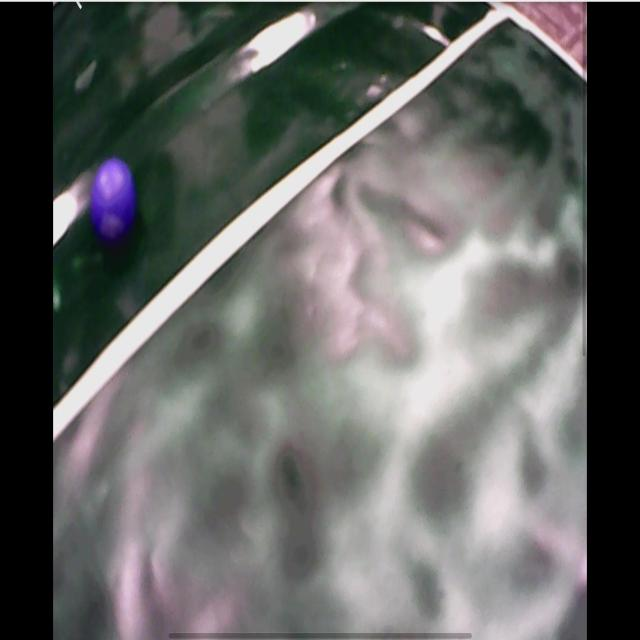ball: (93, 158, 135, 240)
